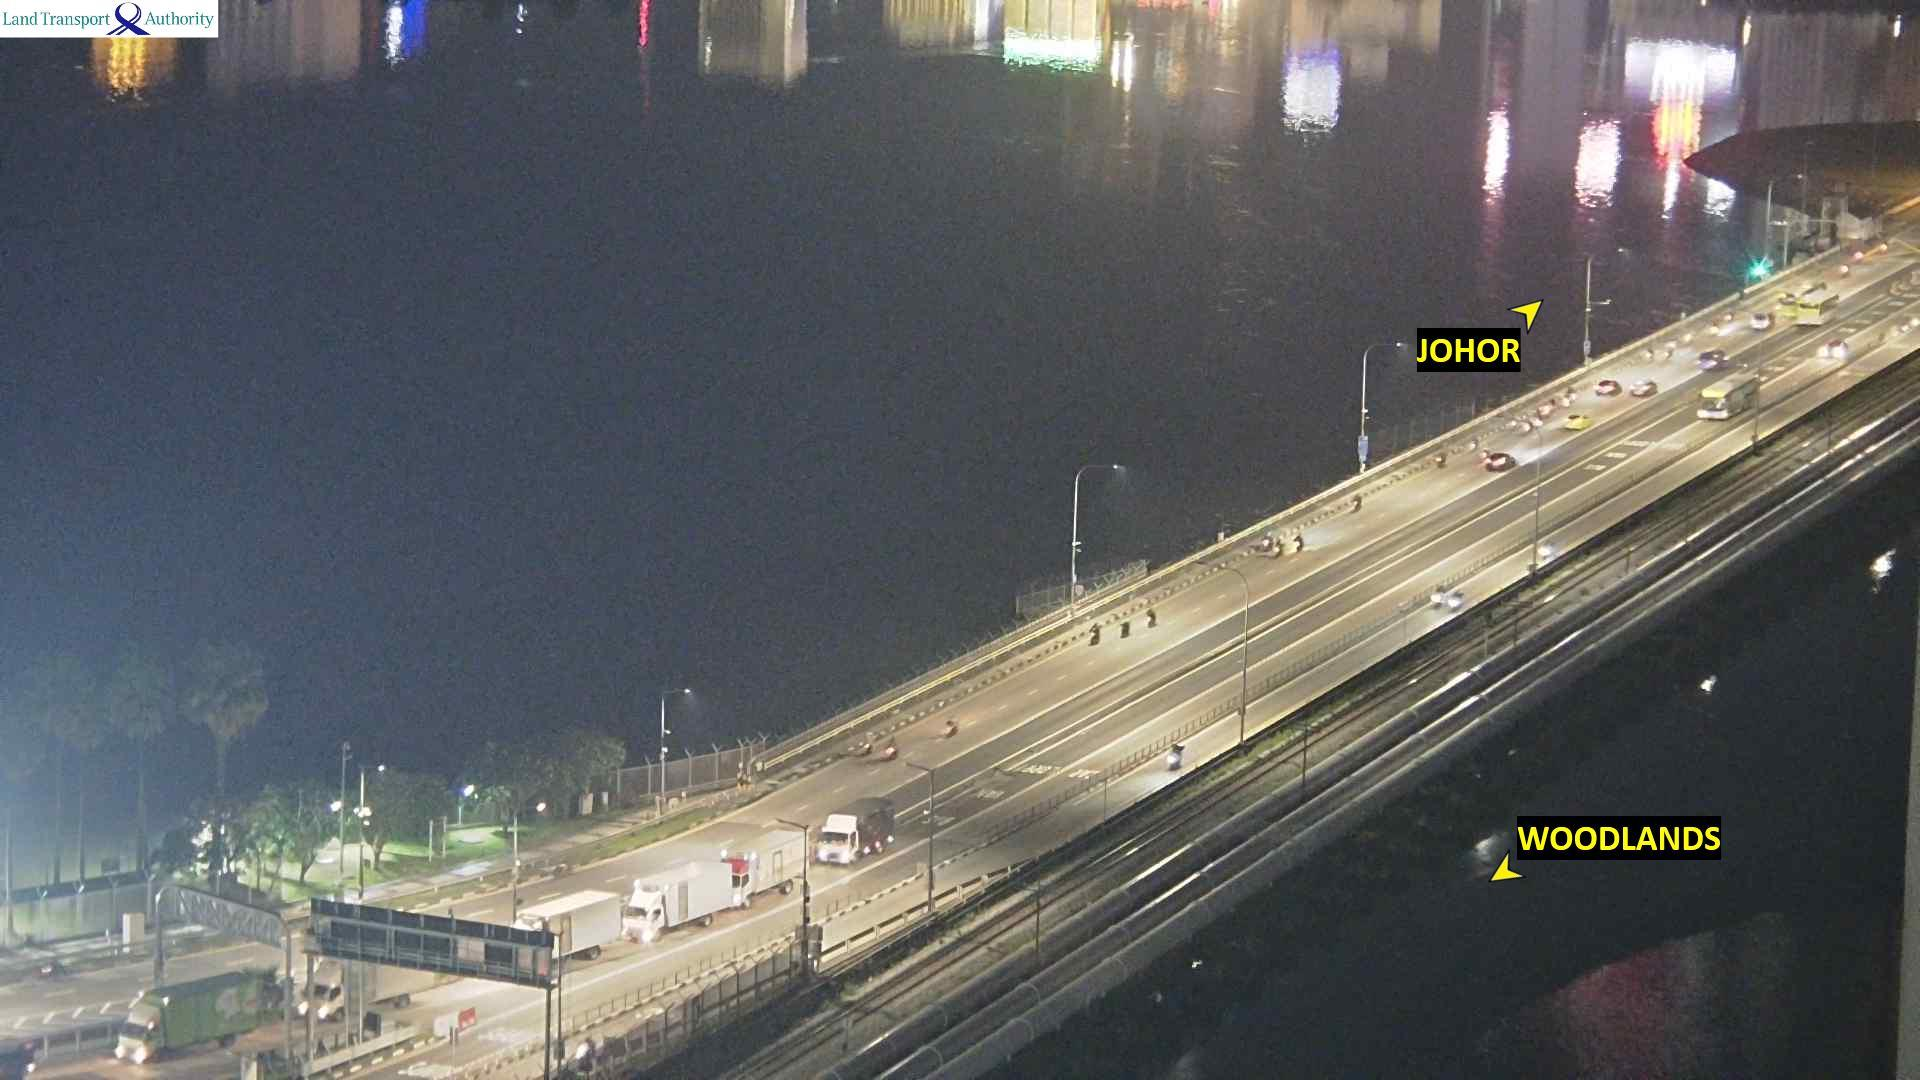vehicle-causeway-johor: (1794, 292, 1837, 330), (1696, 351, 1728, 372), (1483, 451, 1512, 473), (1518, 409, 1539, 439), (1605, 378, 1635, 396), (1594, 378, 1622, 395), (1267, 542, 1287, 564), (1630, 378, 1656, 394), (1561, 414, 1587, 428), (1753, 313, 1774, 330), (1803, 284, 1827, 298), (884, 736, 898, 759), (944, 719, 959, 737), (1433, 451, 1445, 472), (1468, 432, 1479, 453), (1147, 610, 1159, 628), (1090, 625, 1101, 644), (1724, 310, 1736, 326), (1123, 619, 1132, 639), (1682, 327, 1692, 345), (1707, 319, 1718, 332)
vehicle-causeway-singapore: (115, 974, 270, 1050), (515, 891, 618, 955), (298, 970, 452, 1012), (720, 831, 806, 899), (629, 872, 728, 926), (813, 804, 892, 865), (1699, 372, 1757, 421), (0, 1036, 38, 1080), (1817, 340, 1847, 361), (1164, 739, 1184, 770), (1426, 583, 1445, 610), (1539, 538, 1559, 558), (1450, 592, 1463, 612)
